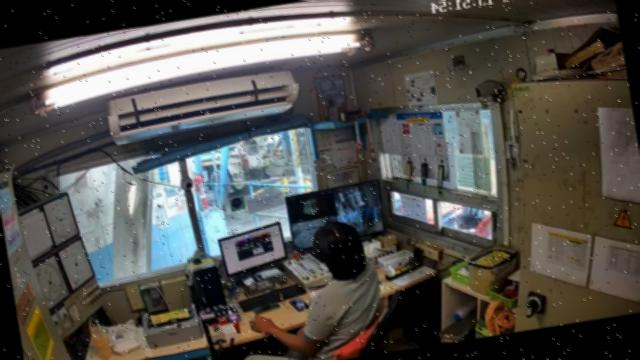Head: (311, 221, 367, 280)
People: (250, 222, 381, 359)
Phone: (251, 302, 281, 314), (287, 297, 310, 310)
